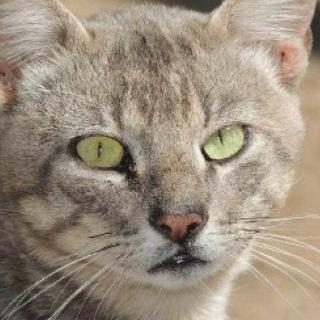cat: (0, 0, 311, 290)
nose: (144, 178, 209, 246)
